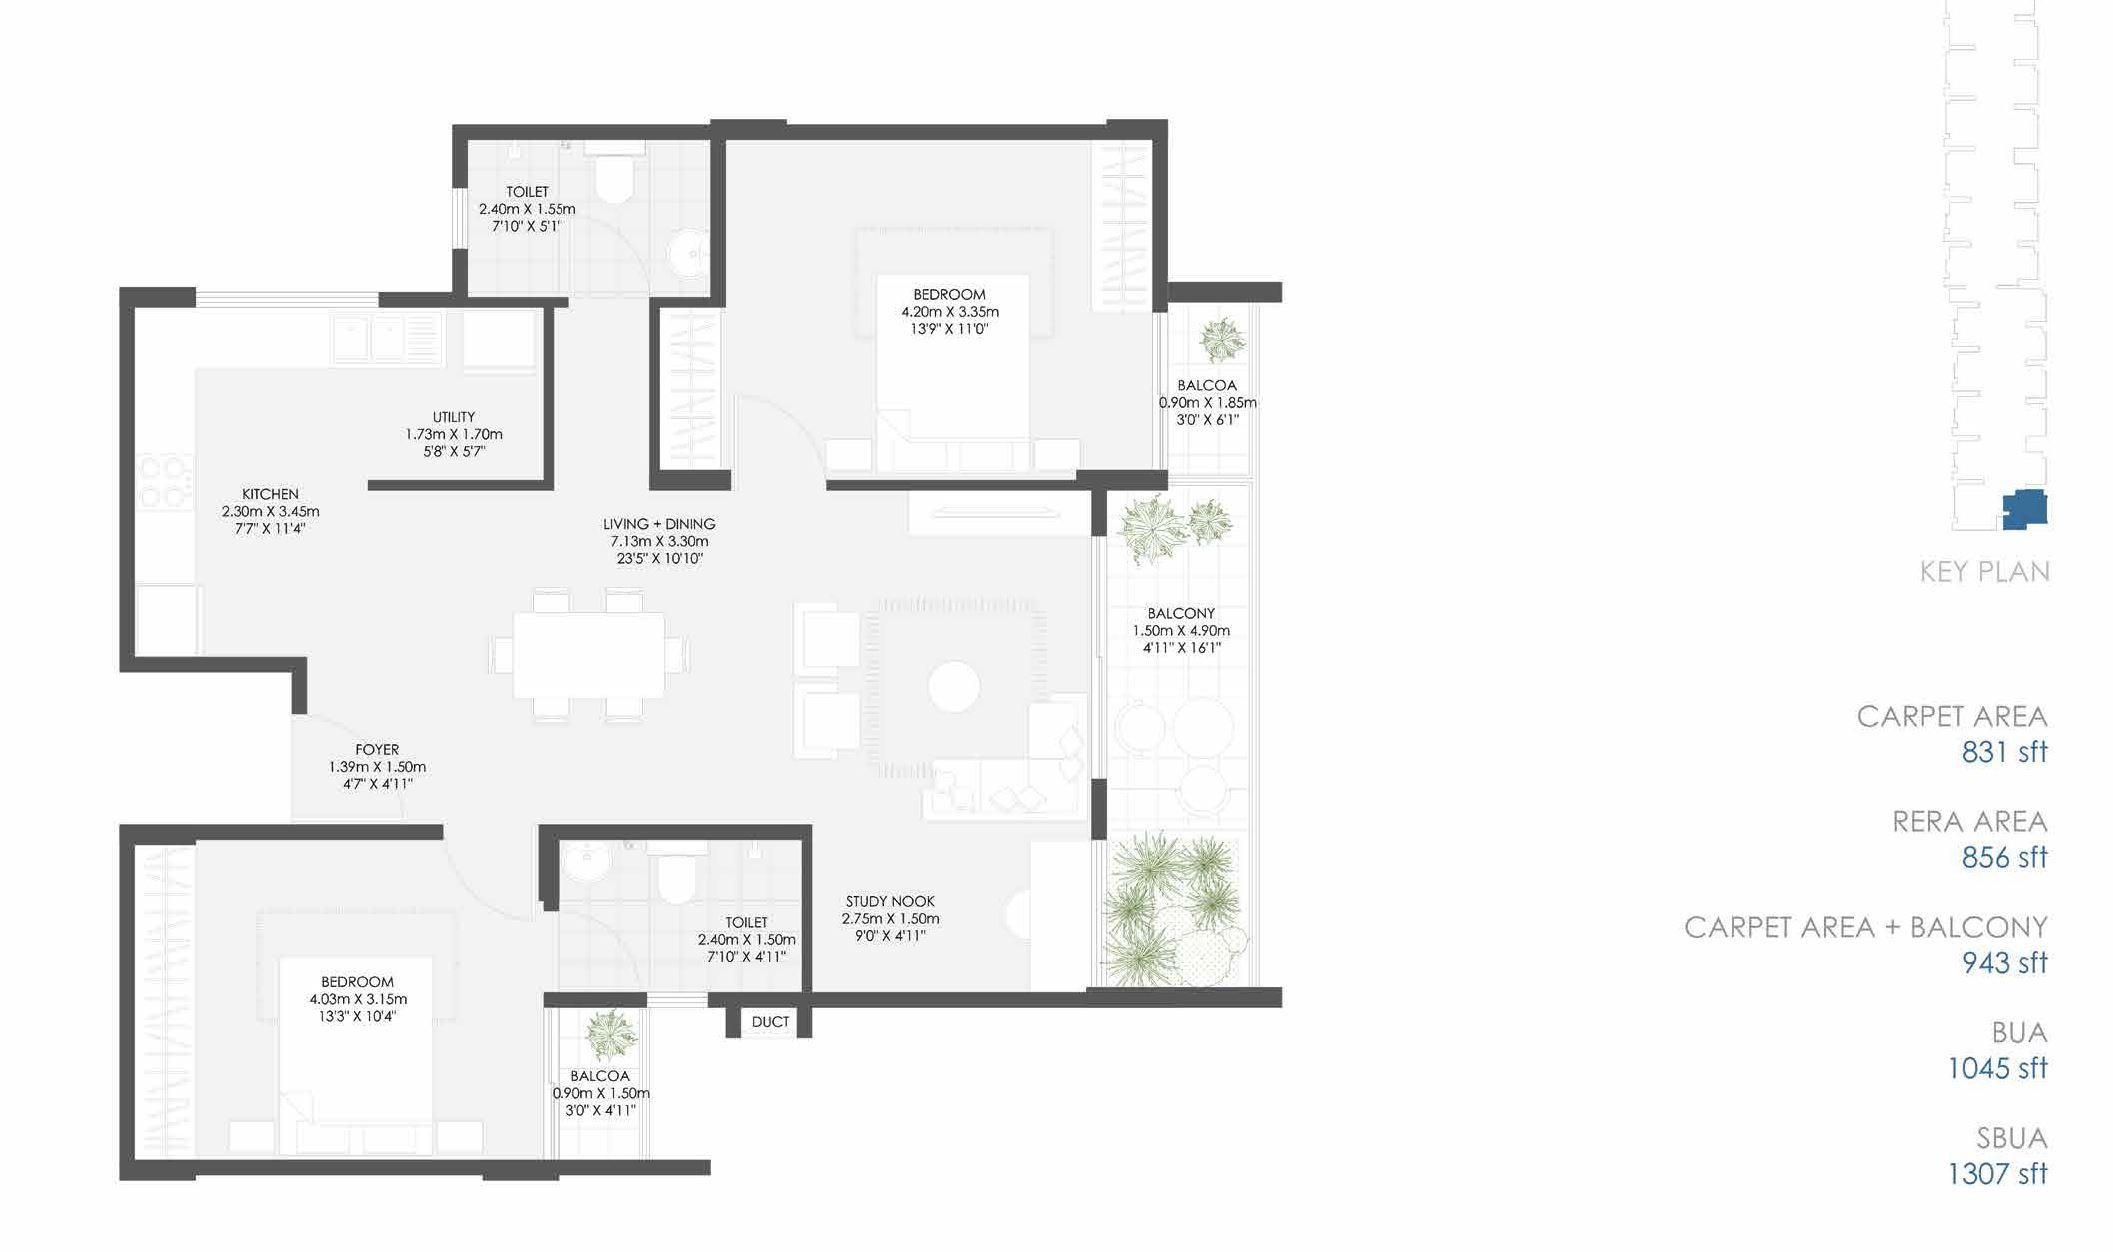Balcony: (1100, 484, 1253, 991)
Bed: (873, 277, 1036, 480), (279, 949, 434, 1158)
Bedroom: (726, 145, 1147, 481), (139, 841, 550, 1163)
Dining Room: (367, 490, 736, 820)
Dining table: (484, 575, 699, 733)
Foyer: (298, 699, 523, 820)
Kitchen: (134, 303, 355, 663)
Living Room: (758, 487, 1095, 820)
Sofa: (918, 756, 1085, 820), (1030, 690, 1086, 823), (791, 678, 869, 759), (796, 605, 857, 674)
Wardrobe: (131, 844, 194, 1160), (659, 307, 723, 468), (1094, 143, 1150, 313)
balcoa: (1168, 303, 1255, 472), (557, 1006, 644, 1157)
commode: (651, 857, 702, 911), (590, 154, 639, 206)
door: (295, 708, 420, 826), (732, 382, 840, 487), (441, 830, 544, 933), (547, 201, 656, 297), (545, 905, 648, 1000)
fridge: (136, 587, 203, 660)
kitchen-slab: (137, 301, 452, 365), (137, 306, 198, 584)
sink: (323, 309, 441, 365), (669, 231, 708, 282), (566, 842, 615, 879)
stove: (136, 452, 192, 516)
study: (815, 826, 1085, 990)
toilet: (462, 139, 708, 297), (554, 839, 802, 990)
tv: (925, 499, 1073, 528)
utility: (358, 307, 542, 481)
washing-machine: (456, 310, 544, 376)
